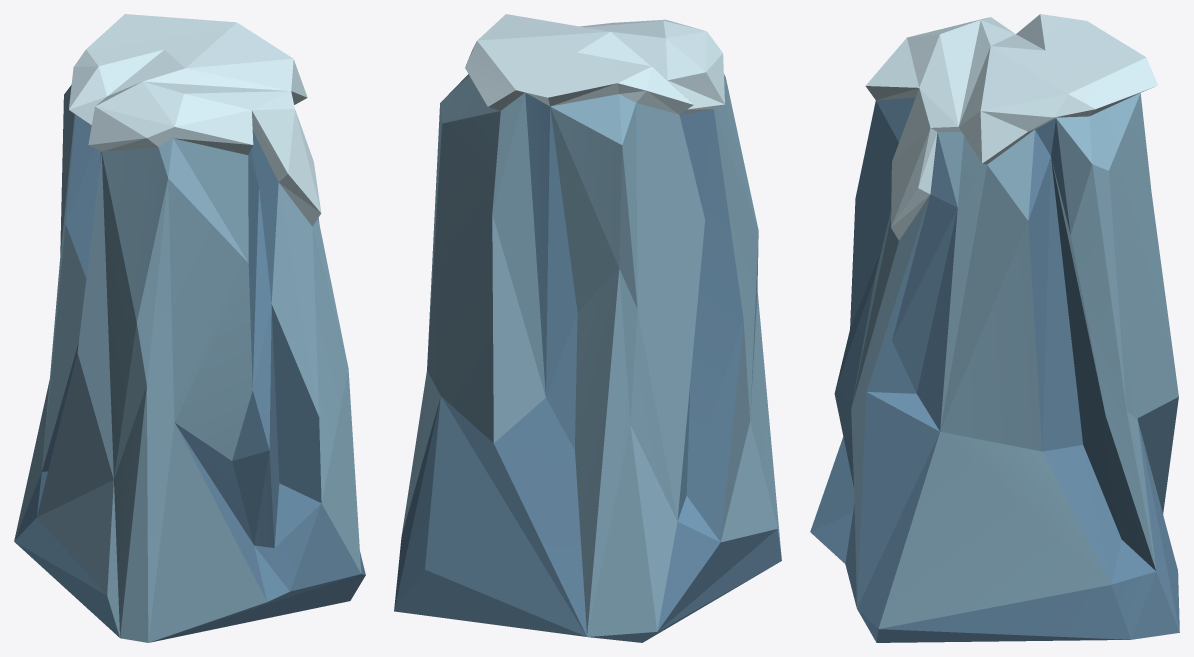
Rendered from Iceberg_03.glb.
The picture shows the model from 3 angles, left to right: view 1: azimuth 30°, elevation 25°; view 2: azimuth 150°, elevation 25°; view 3: azimuth 270°, elevation 25°; orthographic projection. The views are drawn at different scales.
Visible parts, largest first — view 1: SM_Env_Glacier_03; view 2: SM_Env_Glacier_03; view 3: SM_Env_Glacier_03.
Boxes of the visible parts, x1,y1,x2,y2 form: SM_Env_Glacier_03: (14,14,365,642); SM_Env_Glacier_03: (394,14,781,642); SM_Env_Glacier_03: (810,14,1179,642).
Bounding box in the file's own units: 5.52 × 10.64 × 6.55.
Materials: 1 (1 with a texture image).
